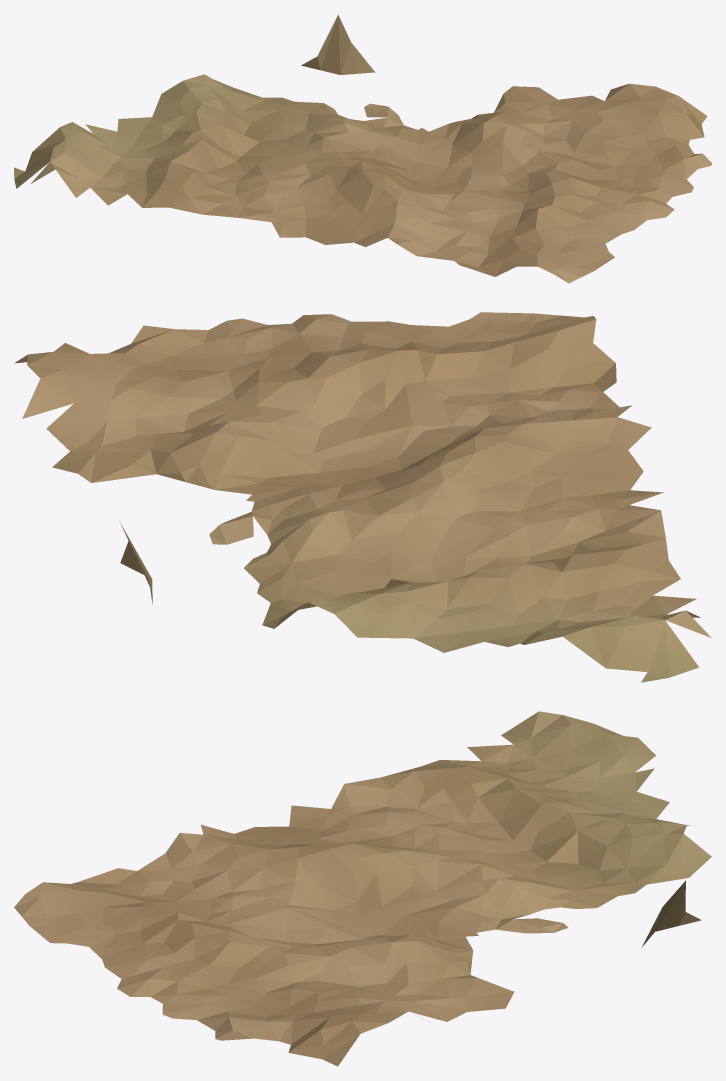
The picture shows the model from 3 angles, top to bottom: view 1: azimuth 30°, elevation 25°; view 2: azimuth 150°, elevation 25°; view 3: azimuth 270°, elevation 25°; orthographic projection. The views are drawn at different scales.
Visible parts, largest first — view 1: 阿拉伯沙海; view 2: 阿拉伯沙海; view 3: 阿拉伯沙海.
Boxes of the visible parts, x1,y1,x2,y2 form: 阿拉伯沙海: (14, 15, 711, 283); 阿拉伯沙海: (14, 312, 711, 682); 阿拉伯沙海: (14, 711, 711, 1066).
Size of the model in its own units: 17.73 by 1.56 by 15.29.
